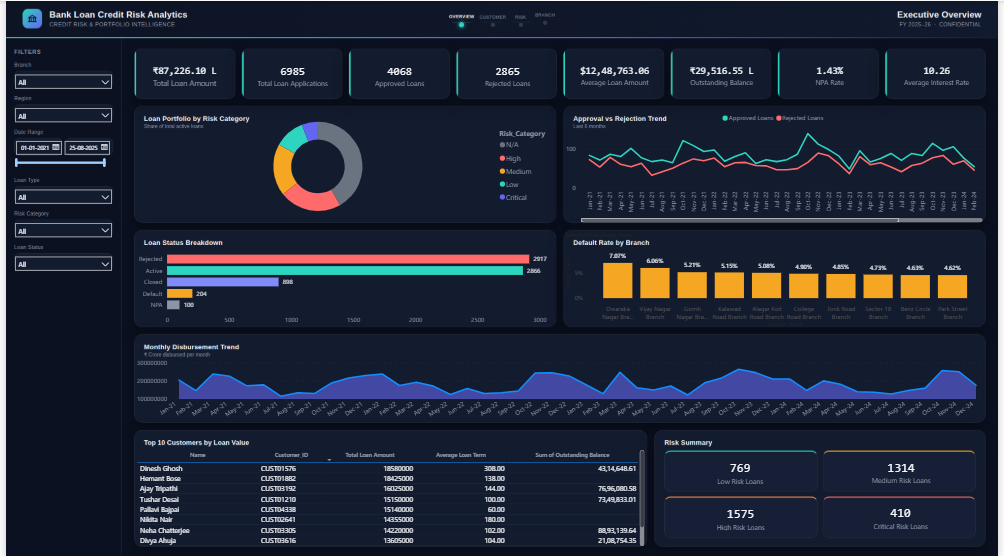

What the dashboard file says about the page in this screenshot:
{"tool":"powerbi","page":{"name":"Executive Overview","canvas":[1920,1080],"ordinal":0},"visuals":[{"type":"cardVisual","fields":{"Data":["_Measures.Total Loan Amount Display"]},"box":[248,96,196,97],"z":0},{"type":"cardVisual","fields":{"Data":["_Measures.Total Loan Applications"]},"box":[456,96,196,97],"z":1000},{"type":"cardVisual","fields":{"Data":["_Measures.Rejected Loans"]},"box":[872,96,196,97],"z":2000},{"type":"cardVisual","fields":{"Data":["_Measures.Average Loan Amount"]},"box":[1080,96,196,97],"z":3000},{"type":"cardVisual","fields":{"Data":["_Measures.Approved Loans"]},"box":[664,96,196,97],"z":4000},{"type":"cardVisual","fields":{"Data":["_Measures.Outstanding Balance Display"]},"box":[1288,96,196,97],"z":5000},{"type":"cardVisual","fields":{"Data":["_Measures.NPA Rate"]},"box":[1496,96,196,97],"z":6000},{"type":"cardVisual","fields":{"Data":["_Measures.Average Interest Rate"]},"box":[1704,96,196,97],"z":7000},{"type":"donutChart","fields":{"Category":["Loan.Risk_Category"],"Y":["_Measures.Total Loan Applications"]},"box":[248,208,817,226],"z":8000},{"type":"lineChart","fields":{"Category":["Calendar.Month-Year Short"],"Y":["_Measures.Approved Loans","_Measures.Rejected Loans"]},"box":[1079,207,817,226],"z":9000},{"type":"clusteredColumnChart","fields":{"Category":["Branches.Branch_Name"],"Y":["_Measures.Default Rate"]},"box":[1079,447,817,188],"z":10000},{"type":"areaChart","title":".","fields":{"Category":["Calendar.Month-Year Short"],"Y":["_Measures.Total Loan Amount"]},"box":[248,649,1648,171],"z":11000},{"type":"tableEx","title":".","fields":{"Values":["Customer Summary.Name","Customer Summary.Customer_ID","Sum(Customer Summary.Total Loan Amount)","Sum(Customer Summary.Average Loan Term)","Sum(Customer Summary.Outstanding Balance)"]},"box":[248,834,992.6,226],"z":12000},{"type":"barChart","title":".","fields":{"Y":["_Measures.Total Loans"],"Category":["Loan.Loan_Status"]},"box":[248,447,817,188],"z":13000},{"type":"cardVisual","fields":{"Data":["_Measures.Low Risk Loans"]},"box":[1272,872,299,80],"z":14000},{"type":"cardVisual","fields":{"Data":["_Measures.Medium Risk Loans"]},"box":[1584,872,299,80],"z":15000},{"type":"cardVisual","fields":{"Data":["_Measures.High Risk Loans"]},"box":[1274,961,297,80],"z":16000},{"type":"cardVisual","fields":{"Data":["_Measures.Critical Risk Loans"]},"box":[1584,960,297,80],"z":17000},{"type":"slicer","fields":{"Values":["Calendar.Date"]},"box":[6,262,215,72],"z":18000},{"type":"slicer","fields":{"Values":["Branches.Branch_Name"]},"box":[8,131,207,50],"z":19000},{"type":"slicer","fields":{"Values":["Branches.Region"]},"box":[8,197,207,50],"z":20000},{"type":"slicer","fields":{"Values":["Loan_Type.Loan_Type_Name"]},"box":[8,354,207,50],"z":21000},{"type":"slicer","fields":{"Values":["Loan.Loan_Status"]},"box":[8,484,207,50],"z":22000},{"type":"slicer","fields":{"Values":["Loan.Risk_Category"]},"box":[8,420,207,50],"z":23000}]}

Visuals, with their boxes on the page's 1920x1080 design canvas (x1, y1, x2, y2). These are canvas units, not pixel positions in the 1004x556 screenshot, which may show the page scaled, cropped or inside an application window:
cardVisual - _Measures.Total Loan Amount Display: bbox=(248, 96, 444, 193)
cardVisual - _Measures.Total Loan Applications: bbox=(456, 96, 652, 193)
cardVisual - _Measures.Rejected Loans: bbox=(872, 96, 1068, 193)
cardVisual - _Measures.Average Loan Amount: bbox=(1080, 96, 1276, 193)
cardVisual - _Measures.Approved Loans: bbox=(664, 96, 860, 193)
cardVisual - _Measures.Outstanding Balance Display: bbox=(1288, 96, 1484, 193)
cardVisual - _Measures.NPA Rate: bbox=(1496, 96, 1692, 193)
cardVisual - _Measures.Average Interest Rate: bbox=(1704, 96, 1900, 193)
donutChart - Loan.Risk_Category x _Measures.Total Loan Applications: bbox=(248, 208, 1065, 434)
lineChart - Calendar.Month-Year Short x _Measures.Approved Loans: bbox=(1079, 207, 1896, 433)
clusteredColumnChart - Branches.Branch_Name x _Measures.Default Rate: bbox=(1079, 447, 1896, 635)
"." areaChart: bbox=(248, 649, 1896, 820)
"." tableEx: bbox=(248, 834, 1241, 1060)
"." barChart: bbox=(248, 447, 1065, 635)
cardVisual - _Measures.Low Risk Loans: bbox=(1272, 872, 1571, 952)
cardVisual - _Measures.Medium Risk Loans: bbox=(1584, 872, 1883, 952)
cardVisual - _Measures.High Risk Loans: bbox=(1274, 961, 1571, 1041)
cardVisual - _Measures.Critical Risk Loans: bbox=(1584, 960, 1881, 1040)
slicer - Calendar.Date: bbox=(6, 262, 221, 334)
slicer - Branches.Branch_Name: bbox=(8, 131, 215, 181)
slicer - Branches.Region: bbox=(8, 197, 215, 247)
slicer - Loan_Type.Loan_Type_Name: bbox=(8, 354, 215, 404)
slicer - Loan.Loan_Status: bbox=(8, 484, 215, 534)
slicer - Loan.Risk_Category: bbox=(8, 420, 215, 470)
